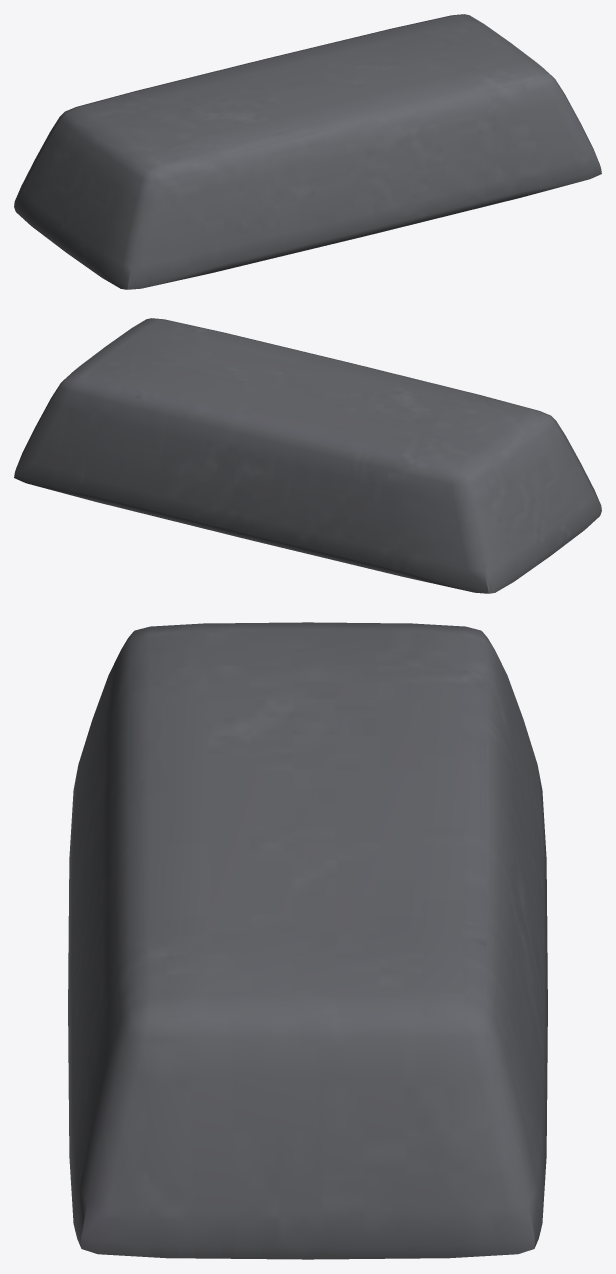
The model's file is lead_ingot.glb.
The picture shows the model from 3 angles, top to bottom: view 1: azimuth 30°, elevation 25°; view 2: azimuth 150°, elevation 25°; view 3: azimuth 270°, elevation 25°; orthographic projection. The views are drawn at different scales.
Visible parts, largest first — view 1: lead_ingot; view 2: lead_ingot; view 3: lead_ingot.
Part boxes in pixels (x1,y1,x2,y2): lead_ingot: (14, 14, 601, 289); lead_ingot: (14, 318, 601, 593); lead_ingot: (68, 622, 547, 1259).
Bounding box in the file's own units: 0.0965 × 0.0218 × 0.0413.
Materials: 1 (1 with a texture image).
